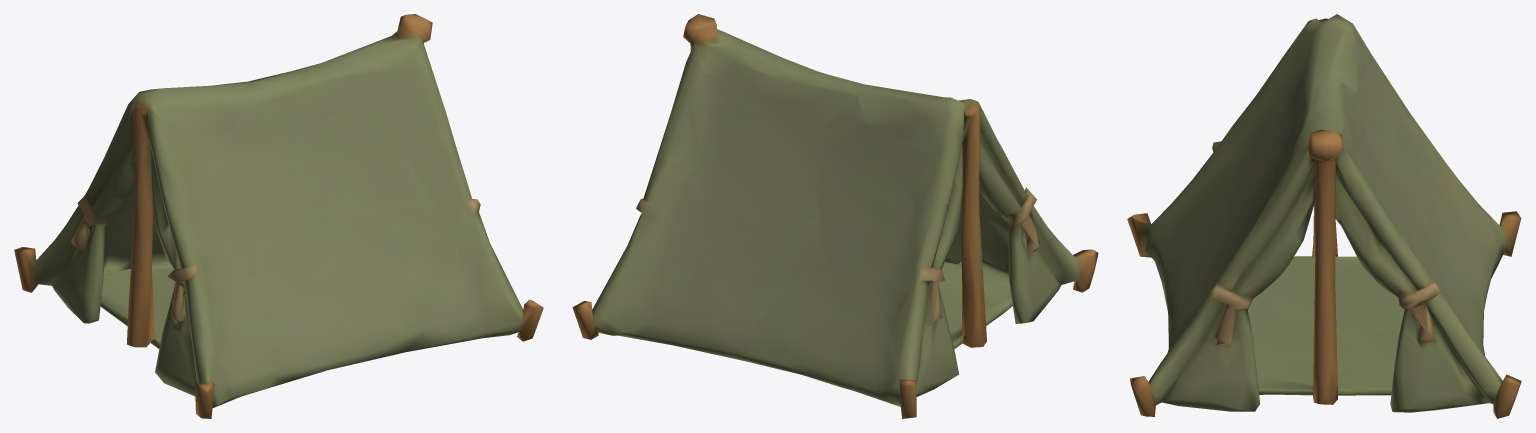
The model's file is f-tent.glb.
The picture shows the model from 3 angles, left to right: view 1: azimuth 30°, elevation 25°; view 2: azimuth 150°, elevation 25°; view 3: azimuth 270°, elevation 25°; orthographic projection. The views are drawn at different scales.
Visible parts, largest first — view 1: tripo_node_a40266bc-8e10-480e-804f-8977e0ea66e9; view 2: tripo_node_a40266bc-8e10-480e-804f-8977e0ea66e9; view 3: tripo_node_a40266bc-8e10-480e-804f-8977e0ea66e9.
Part boxes in pixels (x1,y1,x2,y2): tripo_node_a40266bc-8e10-480e-804f-8977e0ea66e9: (14, 14, 543, 418); tripo_node_a40266bc-8e10-480e-804f-8977e0ea66e9: (572, 14, 1098, 418); tripo_node_a40266bc-8e10-480e-804f-8977e0ea66e9: (1127, 14, 1521, 418).
Size of the model in its own units: 1 by 0.7357 by 0.9719.
1 material, 1 textured.
